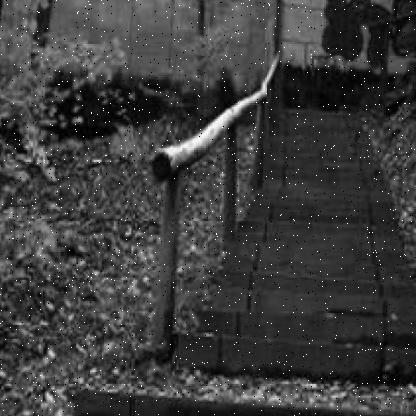stair_up: (190, 198, 416, 378)
